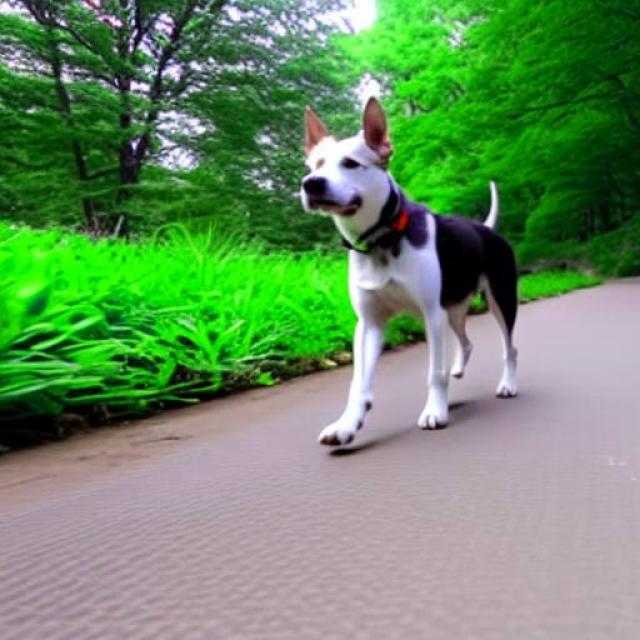Dog: (298, 96, 520, 446)
